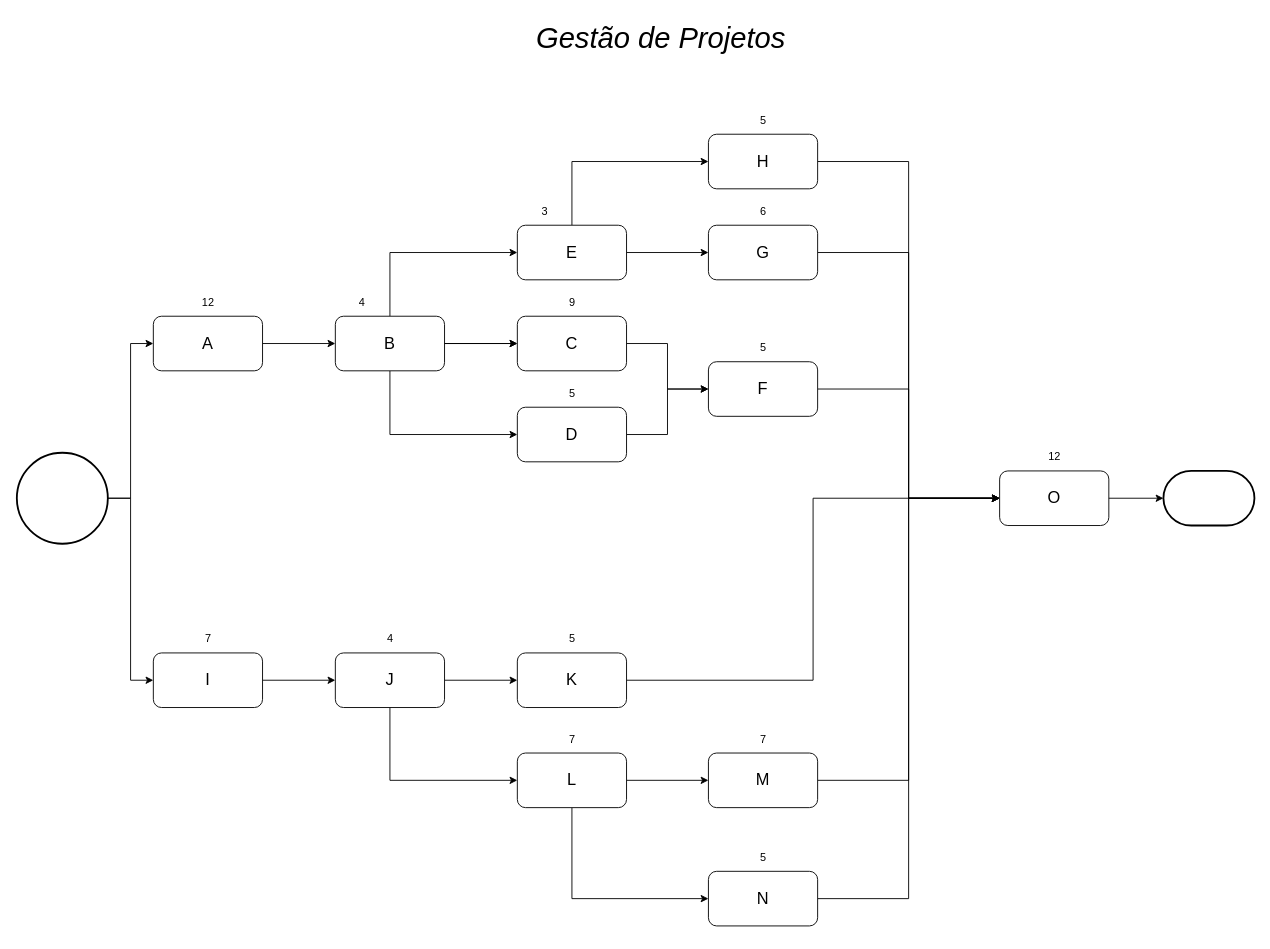
Some shapes in this 1270 by 949 pixel diagram are drawn without their labels. The centre of each missing label's shape, as x and y in pixels:
"Fim" goes at (x=1208, y=498).
"Início" goes at (x=61, y=497).
